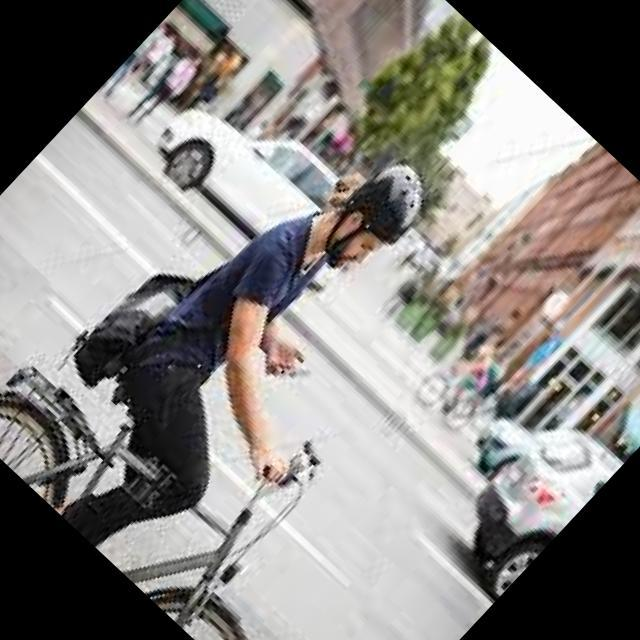USING_MOBILE: (252, 324, 332, 404)
WITH_HELMET: (308, 142, 448, 284)
